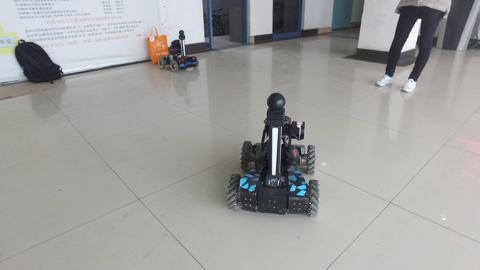bag: (13, 37, 62, 86), (145, 24, 170, 66)
chariot: (226, 90, 320, 219), (155, 28, 200, 71)
